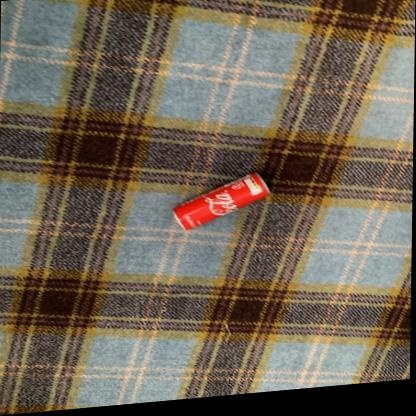trash: (173, 173, 269, 229)
